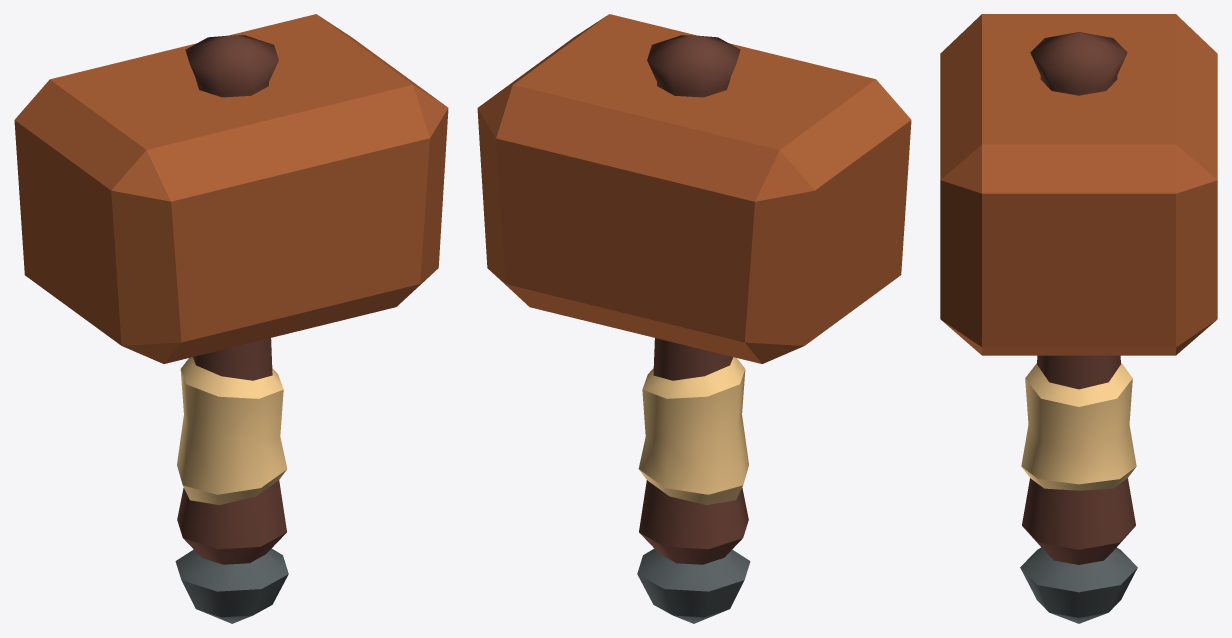
Rendered from Hammer_LHand_4.fbx.
3 views of the same model, side by side, from view 1: azimuth 30°, elevation 25°; view 2: azimuth 150°, elevation 25°; view 3: azimuth 270°, elevation 25° (orthographic).
Visible parts, largest first — view 1: Hammer_LHand_4; view 2: Hammer_LHand_4; view 3: Hammer_LHand_4.
Boxes of the visible parts, x1,y1,x2,y2 form: Hammer_LHand_4: (14,14,448,623); Hammer_LHand_4: (477,14,911,623); Hammer_LHand_4: (940,14,1217,623).
Size of the model in its own units: 31.21 by 52.02 by 22.13.
